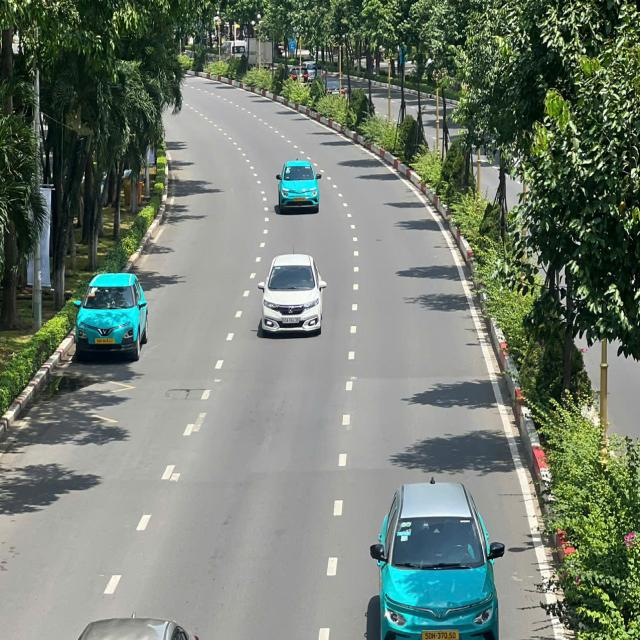car: (384, 485, 500, 640), (76, 269, 146, 370), (263, 256, 326, 355), (277, 151, 321, 219)
